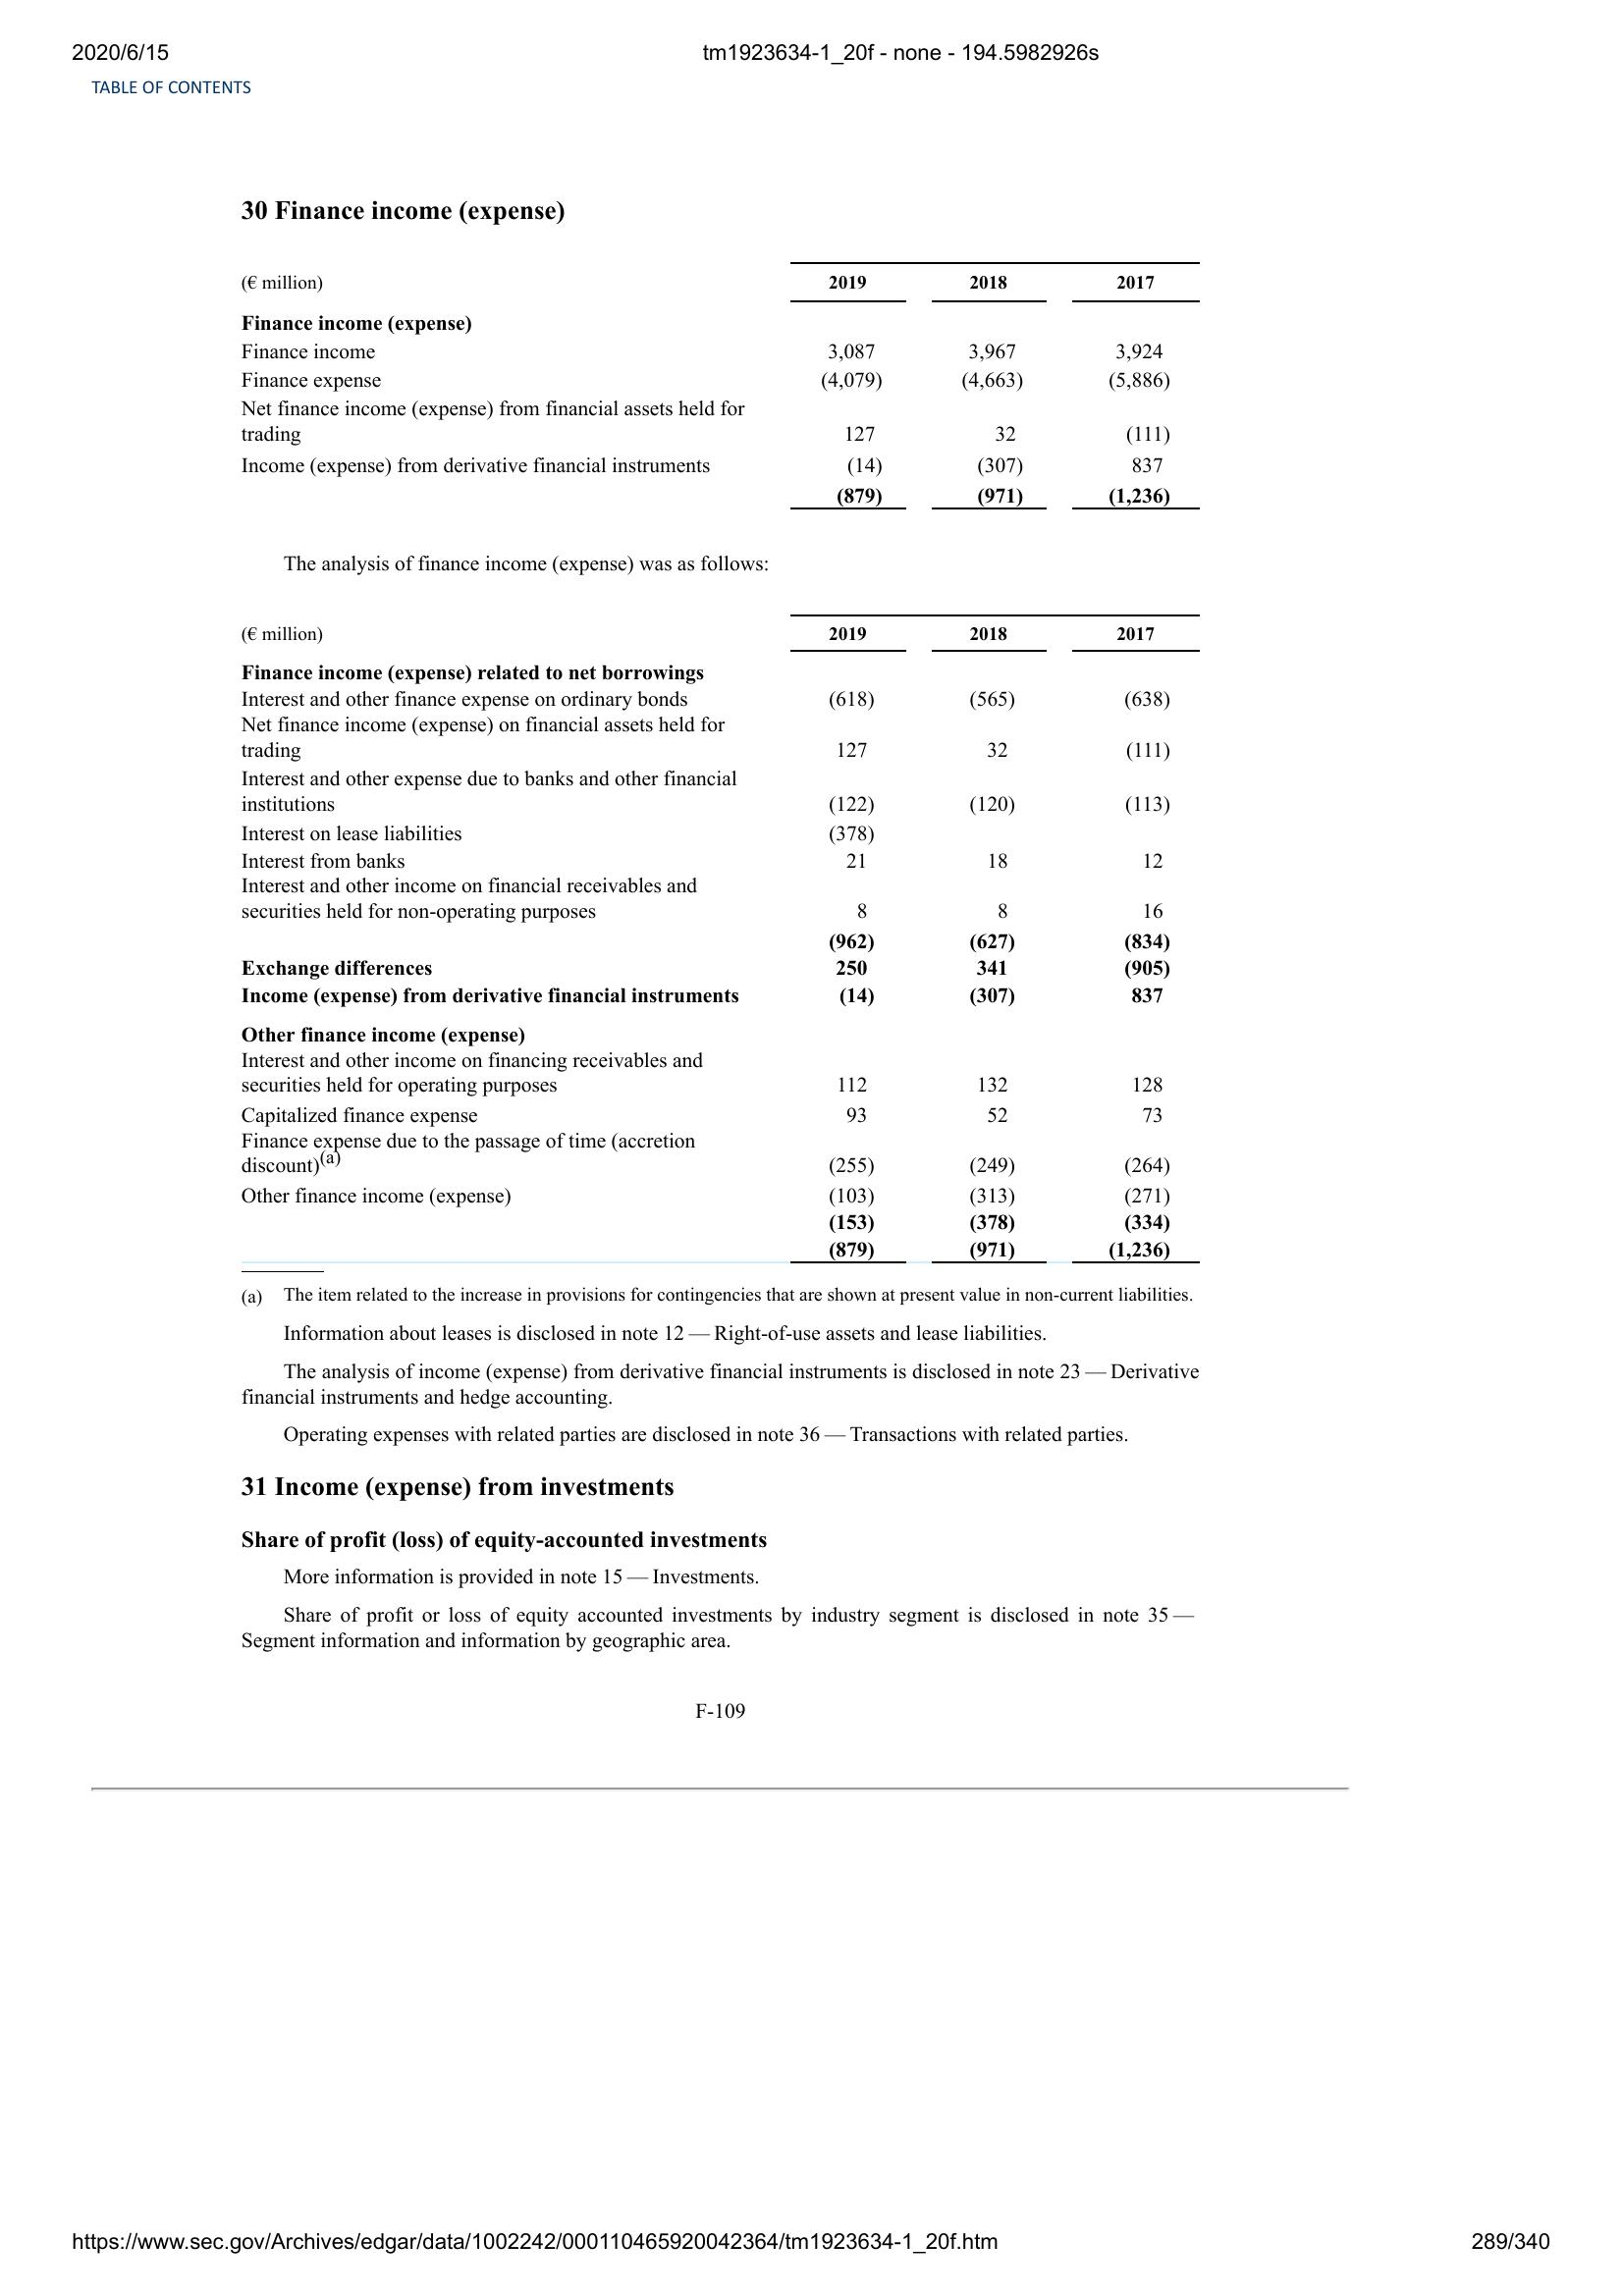table: (232, 609, 1200, 1264), (232, 253, 1210, 520)
